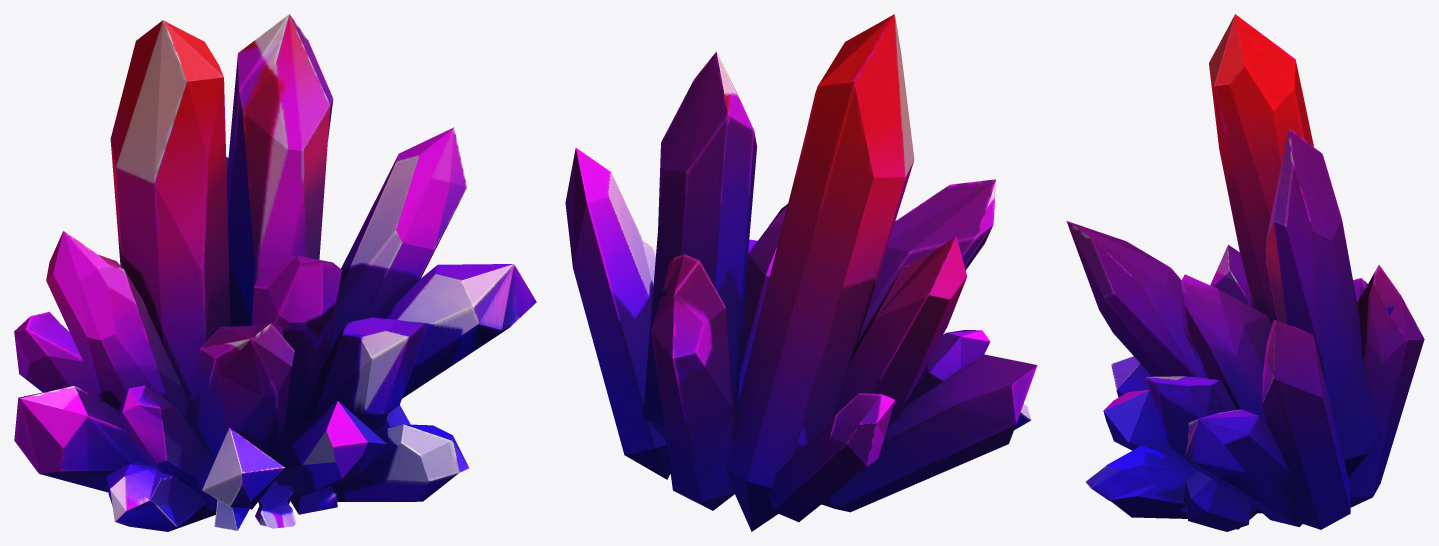
Rendered from RedPurpleCrystalCluster.glb.
3 views of the same model, side by side, from view 1: azimuth 30°, elevation 25°; view 2: azimuth 150°, elevation 25°; view 3: azimuth 270°, elevation 25° (orthographic). The views are drawn at different scales.
Parts seen in each view (by area): view 1: crystal17_2_crystal_17_2_0; view 2: crystal17_2_crystal_17_2_0; view 3: crystal17_2_crystal_17_2_0.
Part boxes in pixels (<box>): crystal17_2_crystal_17_2_0: <box>14,14,536,531</box>; crystal17_2_crystal_17_2_0: <box>565,14,1037,531</box>; crystal17_2_crystal_17_2_0: <box>1066,14,1424,531</box>.
Size of the model in its own units: 87.41 by 88.06 by 63.38.
Materials: 1 (1 with a texture image).
